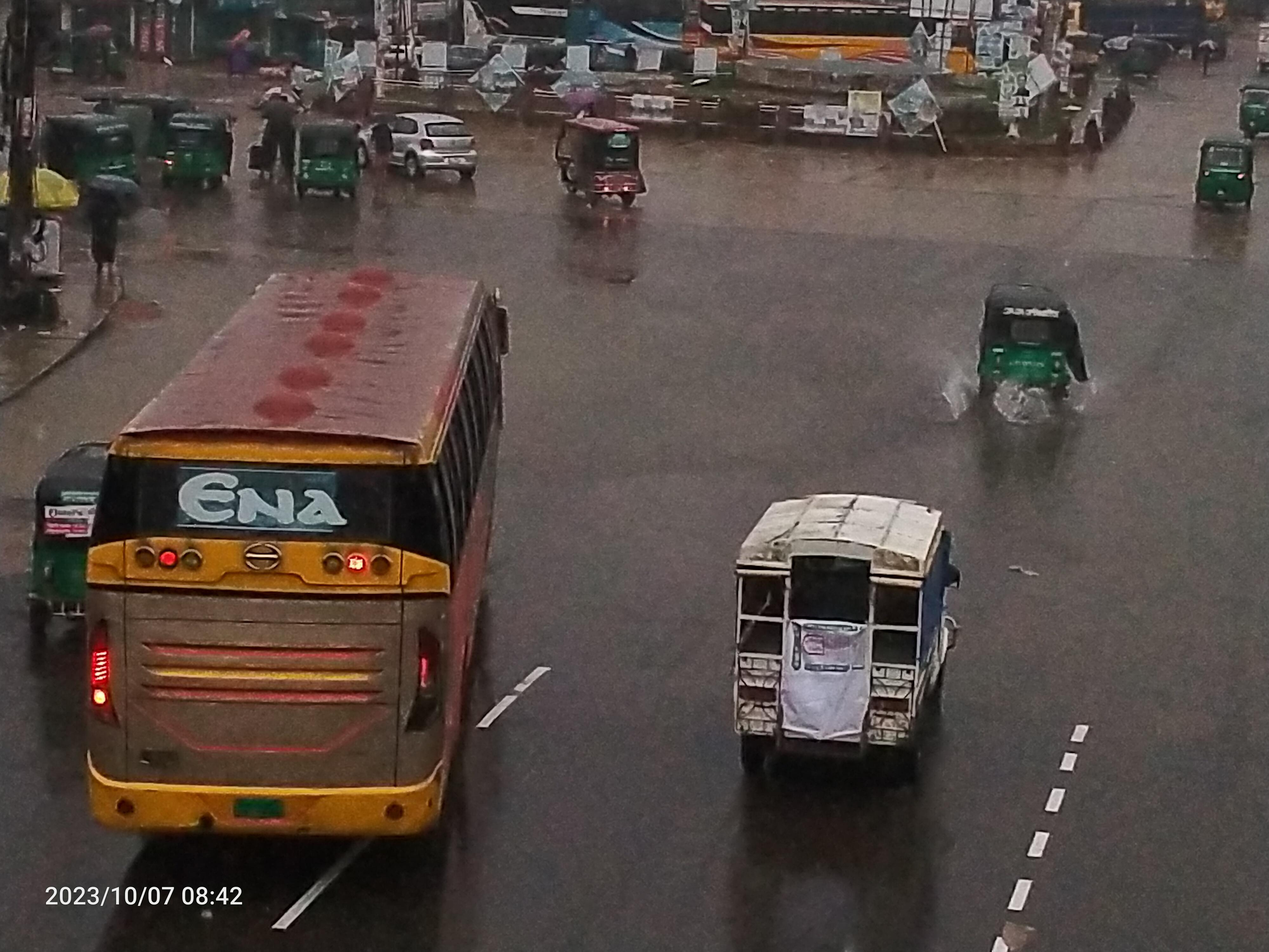Bus: (59, 239, 568, 855), (718, 0, 1091, 89), (547, 0, 748, 92)
Car: (696, 464, 1005, 816), (357, 84, 503, 205)
